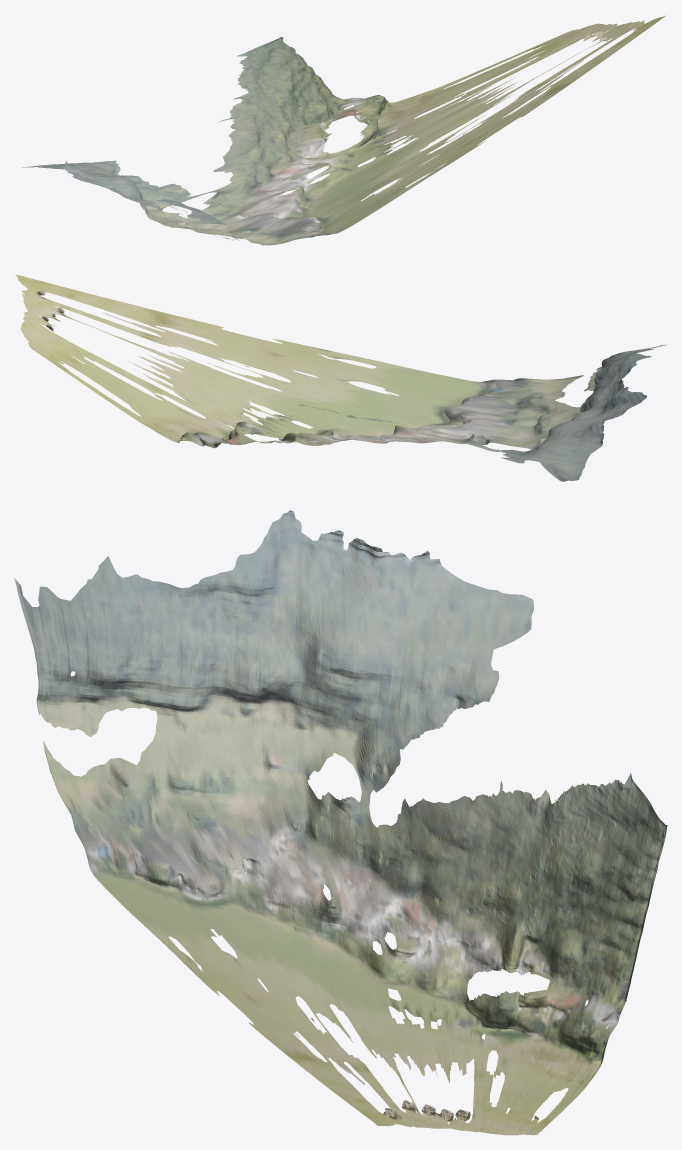
File: render_lod1.glb
3 renders of one model, top to bottom at view 1: azimuth 30°, elevation 25°; view 2: azimuth 150°, elevation 25°; view 3: azimuth 270°, elevation 25°, orthographic. The views are drawn at different scales.
Parts seen in each view (by area): view 1: geometry_0; view 2: geometry_0; view 3: geometry_0.
Boxes of the visible parts, <box> form: geometry_0: <box>21,15,665,245</box>; geometry_0: <box>15,274,667,481</box>; geometry_0: <box>14,510,667,1135</box>.
Size of the model in its own units: 33.16 by 4.89 by 15.36.
